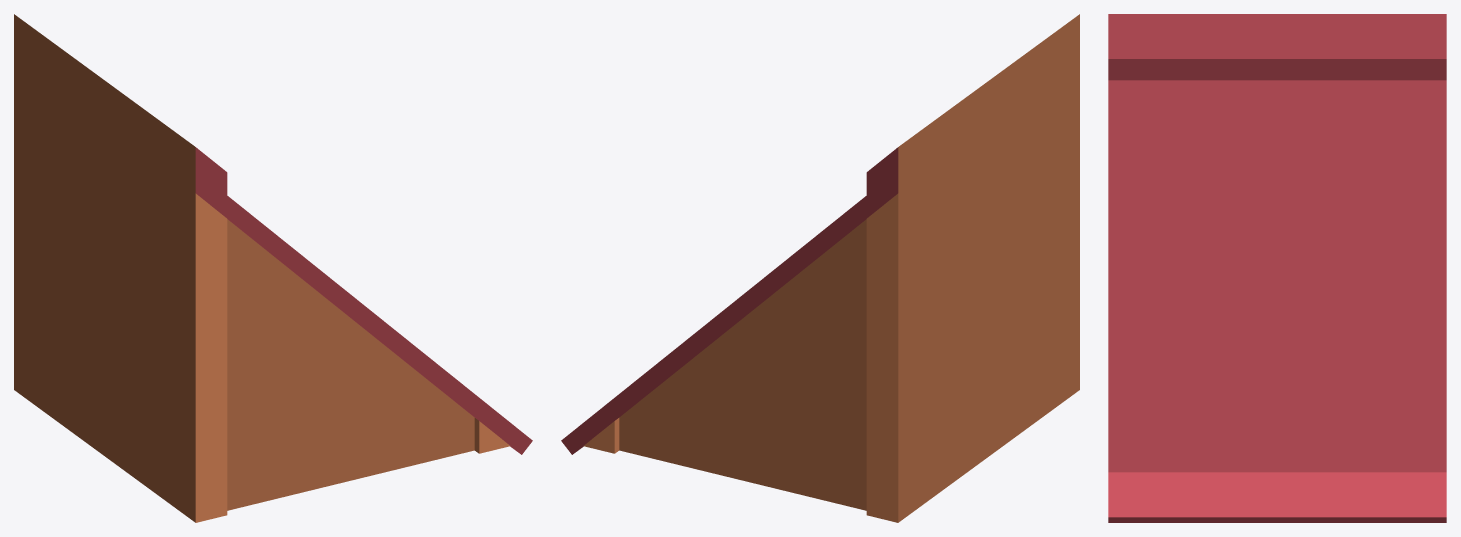
The model's file is roofHigh.dae.
The picture shows the model from 3 angles, left to right: view 1: azimuth 30°, elevation 25°; view 2: azimuth 150°, elevation 25°; view 3: azimuth 270°, elevation 25°; orthographic projection. The views are drawn at different scales.
Visible parts, largest first — view 1: roofHigh; view 2: roofHigh; view 3: roofHigh.
Boxes of the visible parts, x1,y1,x2,y2 form: roofHigh: [14, 14, 532, 522]; roofHigh: [561, 14, 1079, 522]; roofHigh: [1108, 14, 1446, 522].
Bounding box in the file's own units: 1.07 × 1.18 × 1.
